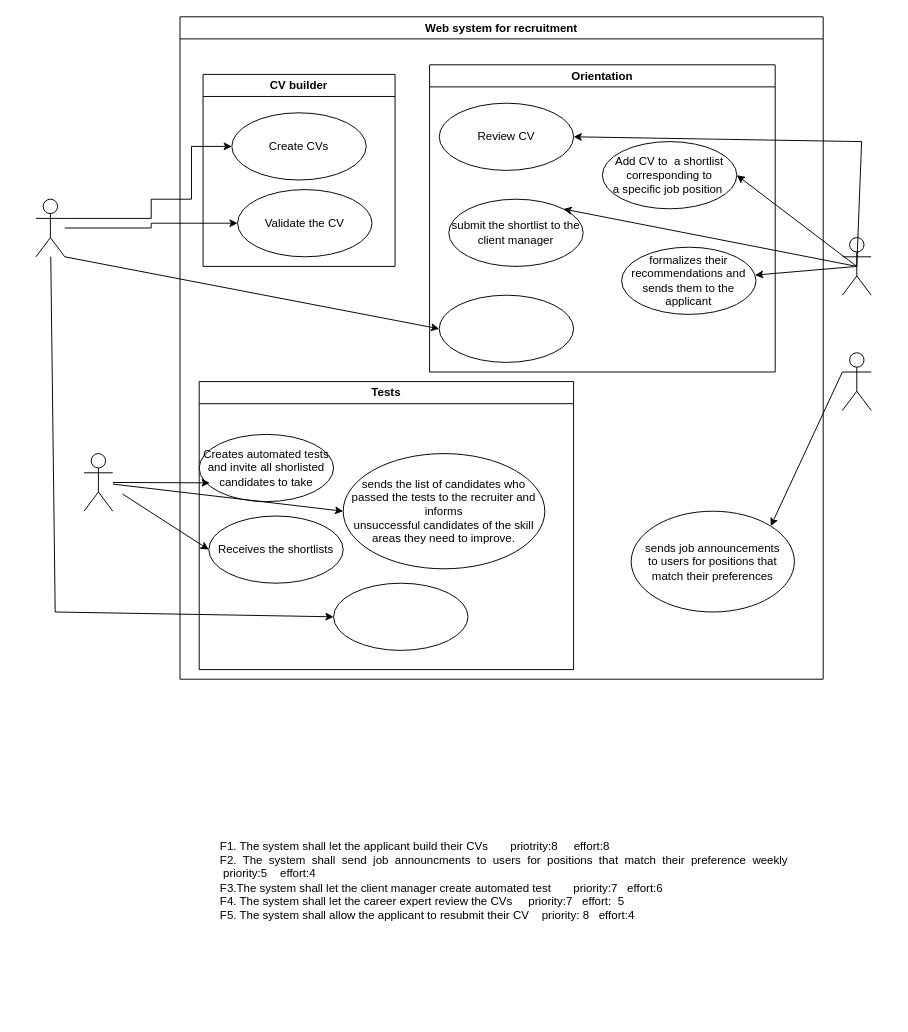
This 908x1032 diagram has some shape labels left out. The shapes that lost their labels are listed below. From the top down, each one's centre as x and y in pixels, then its label:
At (x=50, y=227): "Job applicant".
At (x=856, y=266): "Career expert".
At (x=506, y=328): "Addresses the recommendations and resubmits the CV".
At (x=856, y=381): "Scheduler".
At (x=98, y=482): "Client manager".
At (x=400, y=616): "Take the evaluation test".
